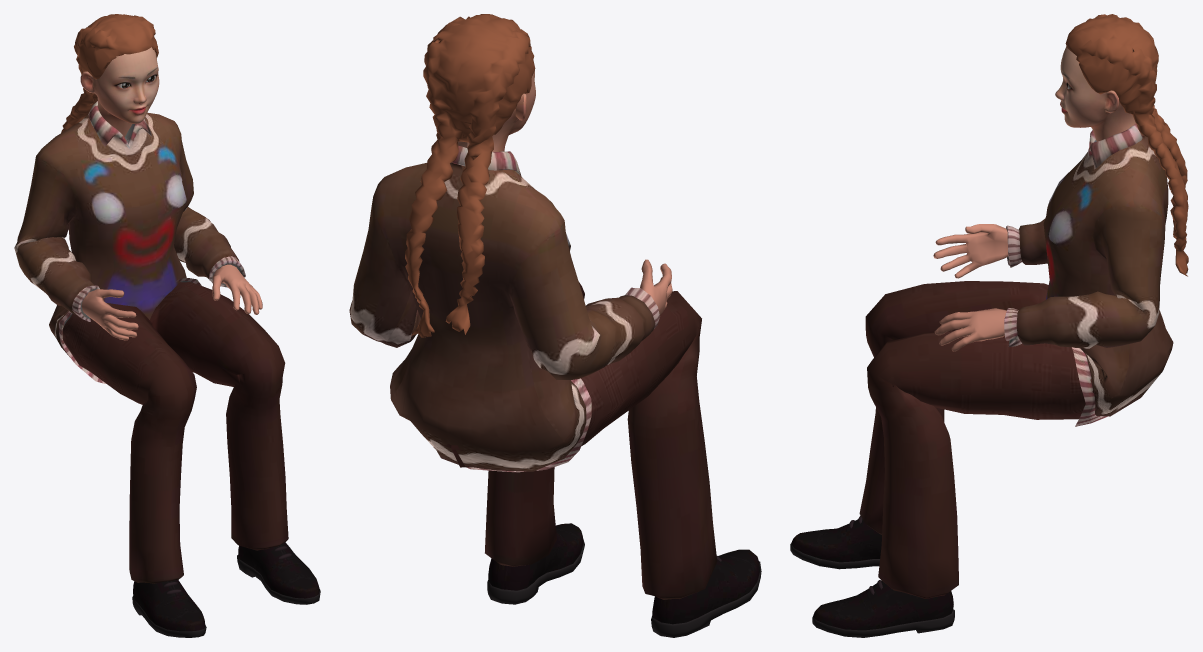
File: wumen1.fbx
3 views of the same model, side by side, from view 1: azimuth 30°, elevation 25°; view 2: azimuth 150°, elevation 25°; view 3: azimuth 270°, elevation 25° (orthographic). The views are drawn at different scales.
Visible parts, largest first — view 1: Wolf3D_Outfit_Bottom, Wolf3D_Outfit_Top, Wolf3D_Outfit_Footwear, Wolf3D_Hair, Wolf3D_Head, Wolf3D_Body; view 2: Wolf3D_Outfit_Top, Wolf3D_Outfit_Bottom, Wolf3D_Hair, Wolf3D_Outfit_Footwear, Wolf3D_Head, Wolf3D_Body; view 3: Wolf3D_Outfit_Bottom, Wolf3D_Outfit_Top, Wolf3D_Hair, Wolf3D_Outfit_Footwear, Wolf3D_Body, Wolf3D_Head.
Part boxes in pixels (bbox=[...]): Wolf3D_Outfit_Bottom: bbox=[62, 282, 288, 583]; Wolf3D_Outfit_Top: bbox=[14, 101, 245, 383]; Wolf3D_Outfit_Footwear: bbox=[132, 542, 320, 637]; Wolf3D_Hair: bbox=[61, 14, 158, 132]; Wolf3D_Head: bbox=[80, 47, 159, 137]; Wolf3D_Body: bbox=[81, 264, 262, 340]; Wolf3D_Outfit_Top: bbox=[349, 145, 659, 472]; Wolf3D_Outfit_Bottom: bbox=[443, 282, 717, 599]; Wolf3D_Hair: bbox=[405, 14, 535, 337]; Wolf3D_Outfit_Footwear: bbox=[487, 523, 761, 637]; Wolf3D_Head: bbox=[457, 70, 535, 151]; Wolf3D_Body: bbox=[640, 259, 672, 315]; Wolf3D_Outfit_Bottom: bbox=[859, 281, 1153, 598]; Wolf3D_Outfit_Top: bbox=[1004, 123, 1173, 426]; Wolf3D_Hair: bbox=[1065, 14, 1188, 276]; Wolf3D_Outfit_Footwear: bbox=[790, 515, 954, 637]; Wolf3D_Body: bbox=[933, 224, 1008, 351]; Wolf3D_Head: bbox=[1055, 46, 1135, 141].
Size of the model in its own units: 495 by 1293 by 812.
8 materials, 8 textured.
